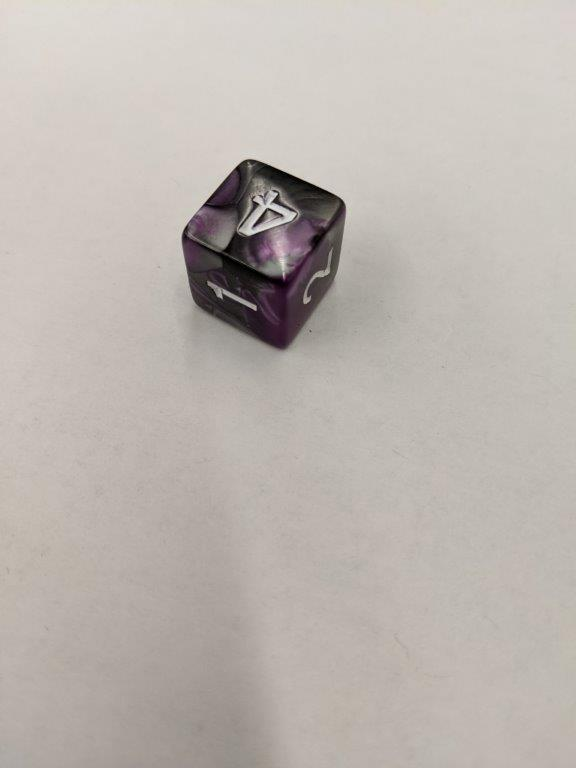d6-4: (182, 158, 347, 350)
